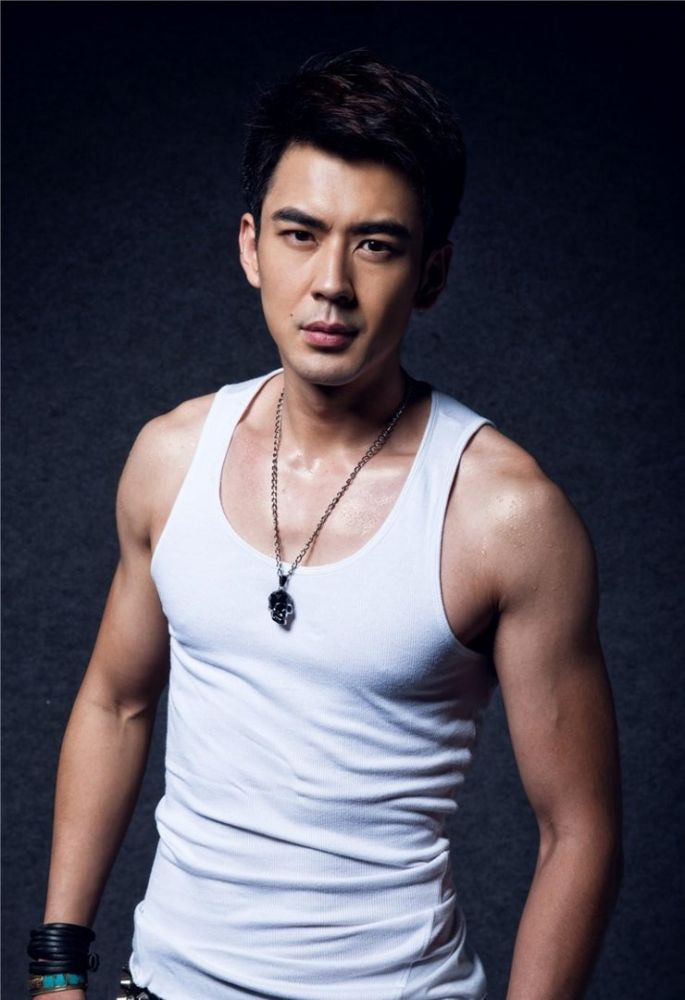person: (84, 77, 607, 914)
